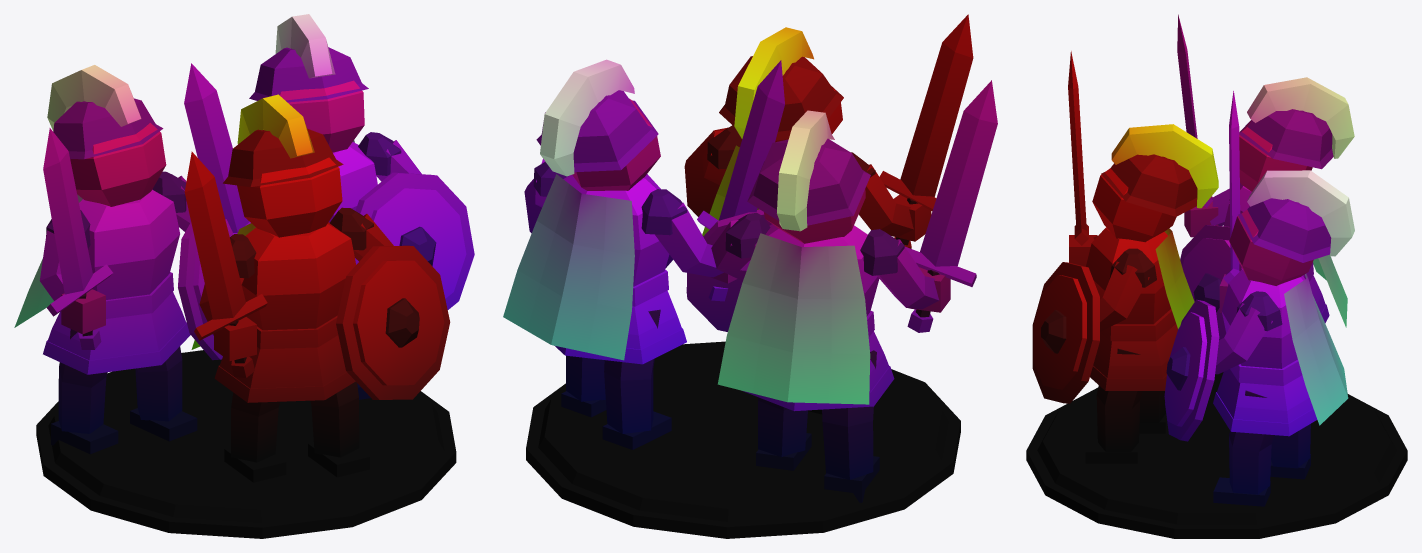
File: ns-swordsman-squad.glb
3 renders of one model, left to right at view 1: azimuth 30°, elevation 25°; view 2: azimuth 150°, elevation 25°; view 3: azimuth 270°, elevation 25°, orthographic. The views are drawn at different scales.
Visible parts, largest first — view 1: Ringed form.001, Ringed form.002, Ringed form.009, Ringed form, Tapered form.008, Ringed form.005, Blade, Ringed form.012, Tapered form.007, Tapered form.028, Blade.001, Blade.002 (+36 smaller); view 2: Ringed form.001, Short cape.001, Short cape.002, Ringed form, Blade.001, Blade, Ringed form.013, Crest.002, Ringed form.016, Ringed form.020, Blade.002, Crest.001 (+33 smaller); view 3: Ringed form.001, Ringed form, Ringed form.016, Ringed form.002, Short cape.002, Tapered form.008, Ringed form.020, Crest.002, Ringed form.006, Crest, Crest.001, Ringed form.013 (+35 smaller).
Boxes of the visible parts, <box> form: Ringed form.001: <box>48,350,444,522</box>; Ringed form.002: <box>219,222,355,388</box>; Ringed form.009: <box>47,189,186,360</box>; Ringed form: <box>36,391,456,538</box>; Tapered form.008: <box>353,260,444,385</box>; Ringed form.005: <box>237,157,342,237</box>; Blade: <box>184,151,245,319</box>; Ringed form.012: <box>70,123,166,206</box>; Tapered form.007: <box>336,245,450,399</box>; Tapered form.028: <box>371,188,466,298</box>; Blade.001: <box>43,128,92,294</box>; Blade.002: <box>184,63,249,232</box>; Ringed form.001: <box>538,341,948,521</box>; Short cape.001: <box>717,233,870,404</box>; Short cape.002: <box>503,174,634,360</box>; Ringed form: <box>526,370,960,538</box>; Blade.001: <box>920,80,997,266</box>; Blade: <box>900,14,973,196</box>; Ringed form.013: <box>747,138,870,225</box>; Crest.002: <box>540,59,634,176</box>; Ringed form.016: <box>563,175,681,349</box>; Ringed form.020: <box>536,90,658,172</box>; Blade.002: <box>719,60,784,220</box>; Crest.001: <box>777,110,834,231</box>; Ringed form.001: <box>1037,372,1396,524</box>; Ringed form: <box>1026,387,1407,538</box>; Ringed form.016: <box>1217,269,1313,423</box>; Ringed form.002: <box>1086,227,1177,378</box>; Short cape.002: <box>1284,273,1348,425</box>; Tapered form.008: <box>1033,275,1086,389</box>; Ringed form.020: <box>1238,198,1331,262</box>; Crest.002: <box>1247,170,1354,256</box>; Ringed form.006: <box>1101,154,1197,216</box>; Crest: <box>1111,124,1218,208</box>; Crest.001: <box>1247,77,1354,158</box>; Ringed form.013: <box>1239,109,1333,169</box>.
Bounding box in the file's own units: 0.7363 × 0.6246 × 0.6148.
